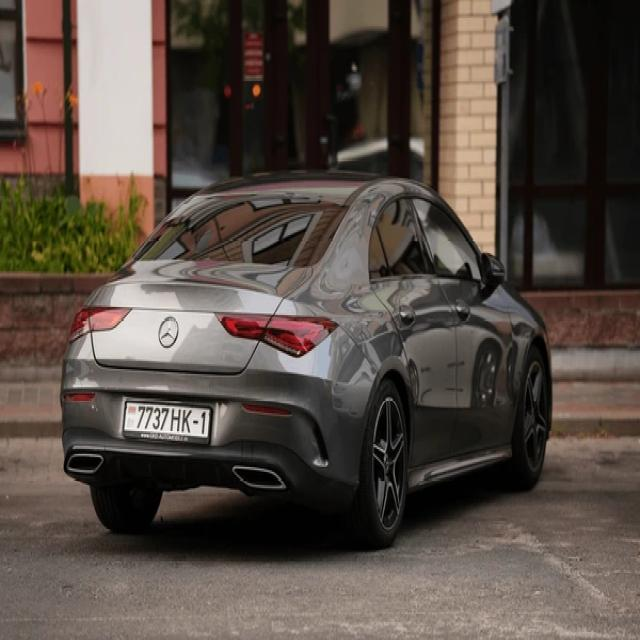mercedes: (158, 314, 182, 348)
